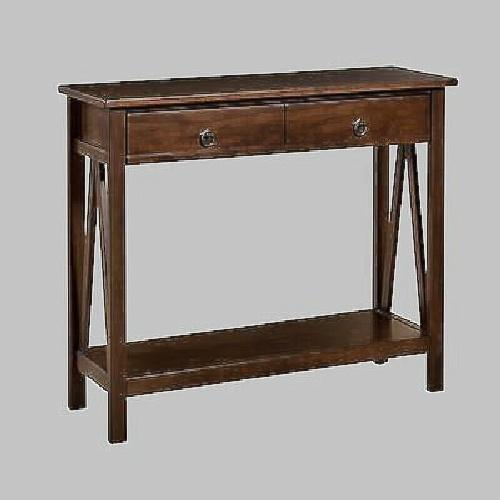table: (57, 72, 461, 431)
